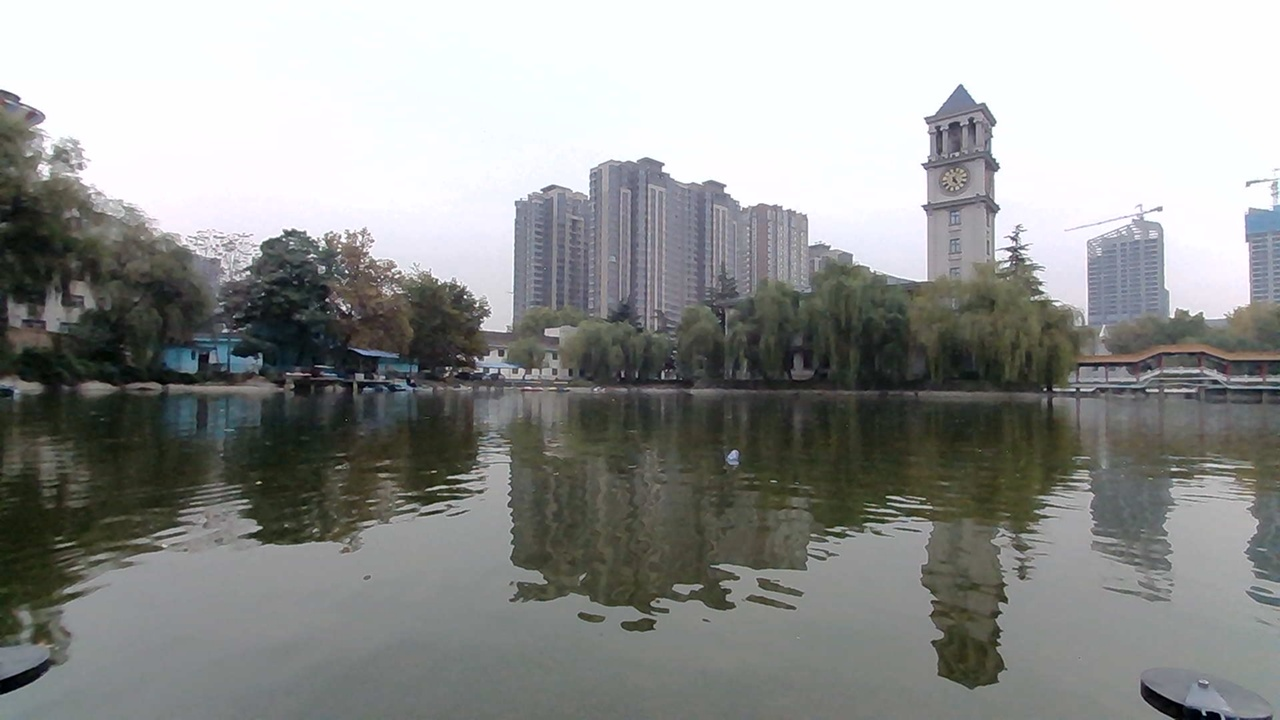bottle: (708, 442, 757, 474)
